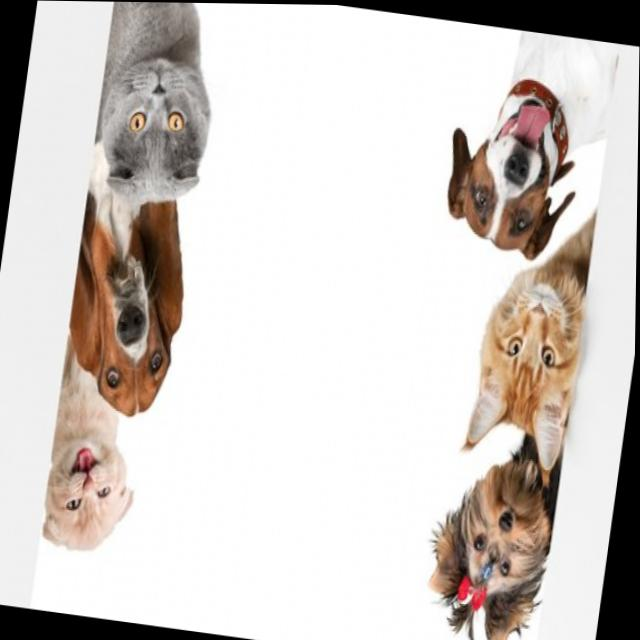Cat: (431, 244, 616, 502), (84, 1, 247, 219), (33, 411, 141, 594)
Dog: (421, 32, 626, 258), (54, 207, 222, 424), (383, 479, 593, 640)
